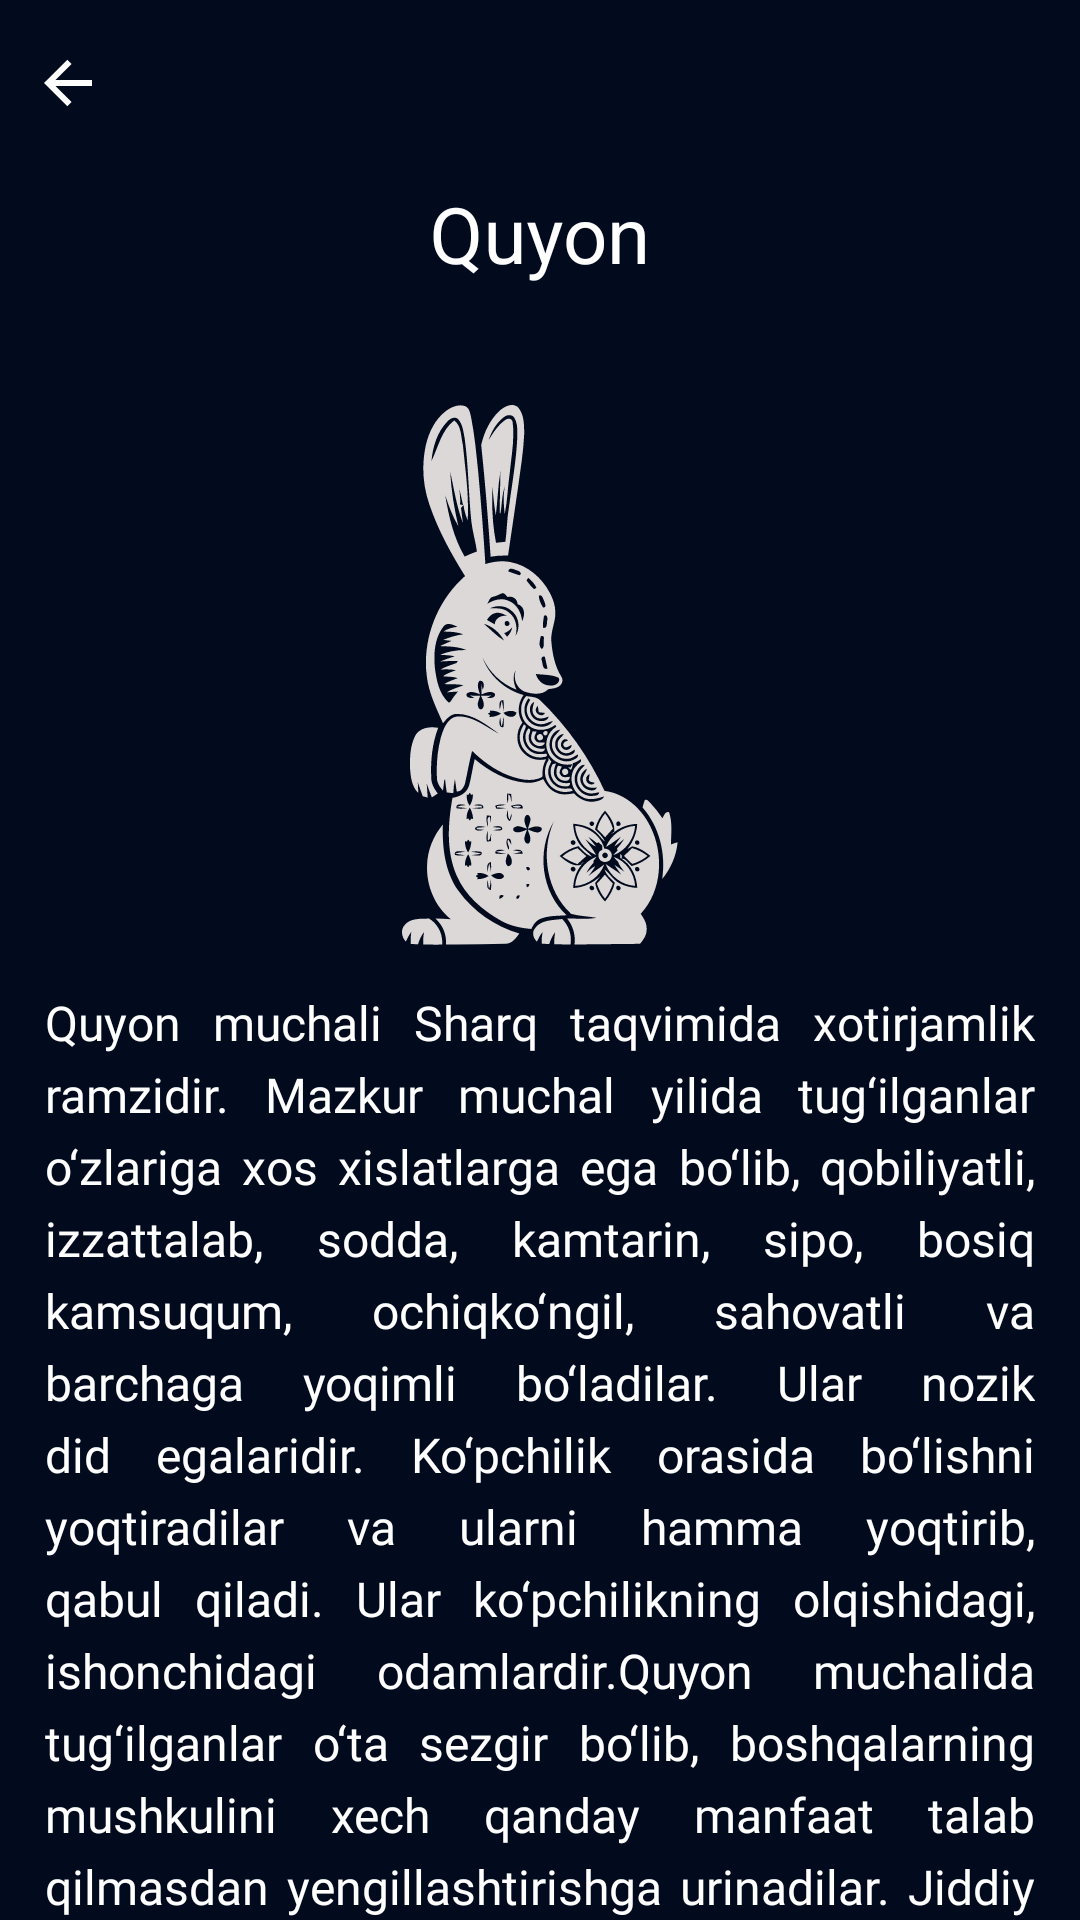

Where icons sit on this 1080px x 1920px app screen, as (x1, y1, x2, y2):
back: (44, 60, 92, 106)
